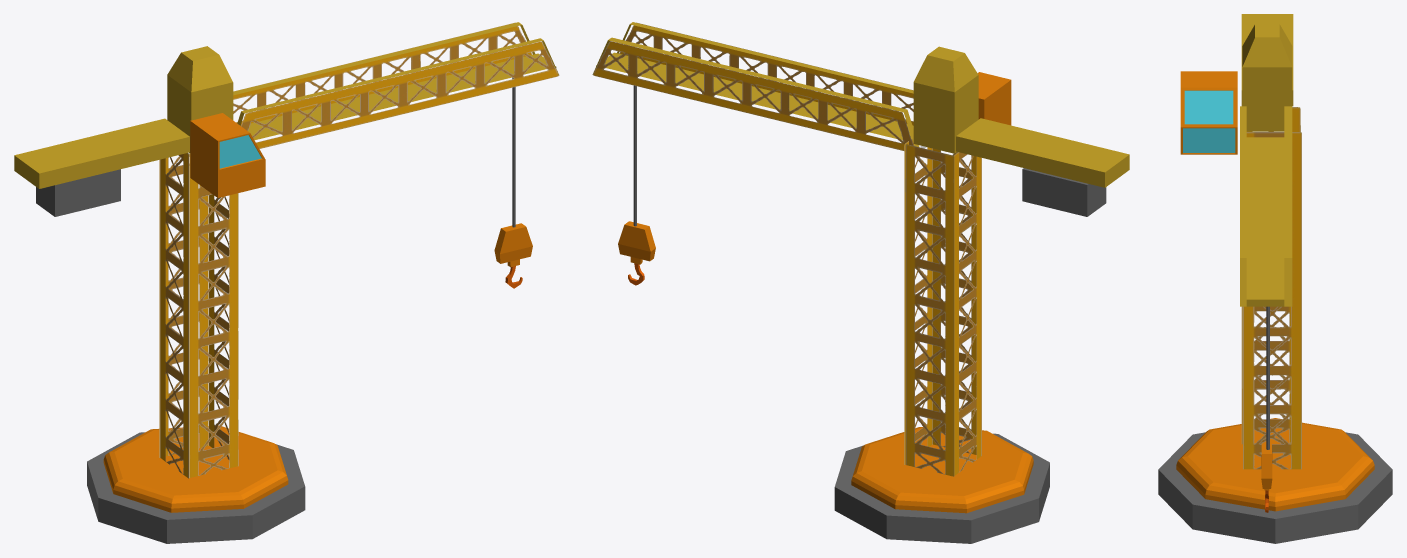
The model's file is Кран готовый.fbx.
3 renders of one model, left to right at view 1: azimuth 30°, elevation 25°; view 2: azimuth 150°, elevation 25°; view 3: azimuth 270°, elevation 25°, orthographic. The views are drawn at different scales.
Parts seen in each view (by area): view 1: Cylinder.001, Кран низ, Кран верх, Cylinder, Cube.003, Кран низ.003, Cube.001, Crane.003, Кран низ.002, Cube.002, Кран верх.001, Crane.002 (+2 smaller); view 2: Кран низ.002, Cylinder.001, Кран верх.001, Cylinder, Cube.003, Cube.001, Кран низ.003, Cube.002, Кран низ, Кран верх, Кран низ.001, Crane.002 (+2 smaller); view 3: Cylinder.001, Cube.001, Cylinder, Кран низ.001, Cube.002, Crane.003, Кран низ.003, Cube.003, Crane.001, Crane Cable.
Part boxes in pixels (x1,y1,x2,y2): Cylinder.001: [103, 425, 288, 512]; Кран низ: [189, 153, 238, 477]; Кран верх: [241, 41, 558, 148]; Cylinder: [87, 432, 305, 543]; Cube.003: [14, 118, 189, 188]; Кран низ.003: [160, 153, 188, 478]; Cube.001: [233, 22, 559, 140]; Crane.003: [190, 113, 265, 197]; Кран низ.002: [159, 153, 208, 457]; Cube.002: [167, 46, 233, 153]; Кран верх.001: [233, 22, 532, 125]; Crane.002: [36, 169, 120, 216]; Кран низ.002: [905, 144, 954, 476]; Cylinder.001: [851, 427, 1033, 513]; Кран верх.001: [593, 41, 913, 150]; Cylinder: [834, 433, 1049, 543]; Cube.003: [956, 118, 1129, 187]; Cube.001: [592, 22, 926, 148]; Кран низ.003: [954, 152, 981, 475]; Cube.002: [913, 46, 978, 153]; Кран низ: [932, 148, 976, 454]; Кран верх: [619, 22, 913, 125]; Кран низ.001: [904, 139, 932, 464]; Crane.002: [1022, 168, 1106, 216]; Cylinder.001: [1176, 418, 1374, 511]; Cube.001: [1240, 106, 1292, 306]; Cylinder: [1158, 432, 1392, 543]; Кран низ.001: [1242, 132, 1301, 469]; Cube.002: [1242, 24, 1292, 131]; Crane.003: [1180, 71, 1237, 154]; Кран низ.003: [1241, 107, 1300, 444]; Cube.003: [1241, 14, 1293, 106]; Crane.001: [1261, 443, 1272, 512]; Crane Cable: [1266, 306, 1269, 449].
Size of the model in its own units: 997 by 817 by 374.
8 materials, 3 textured.
